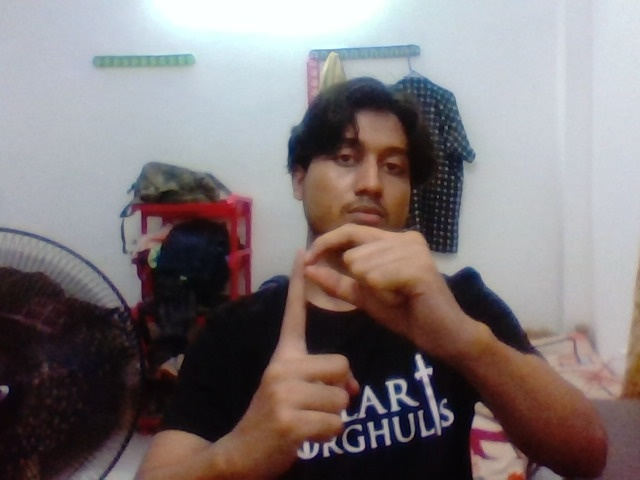P: (243, 207, 417, 437)
